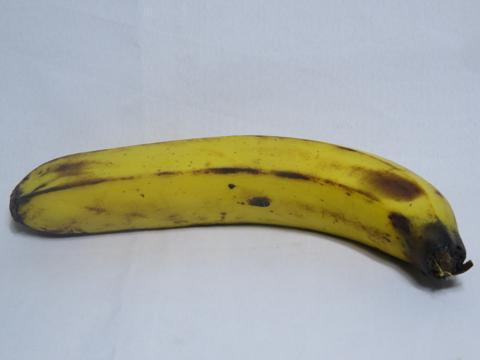ripe: (7, 116, 479, 301)
